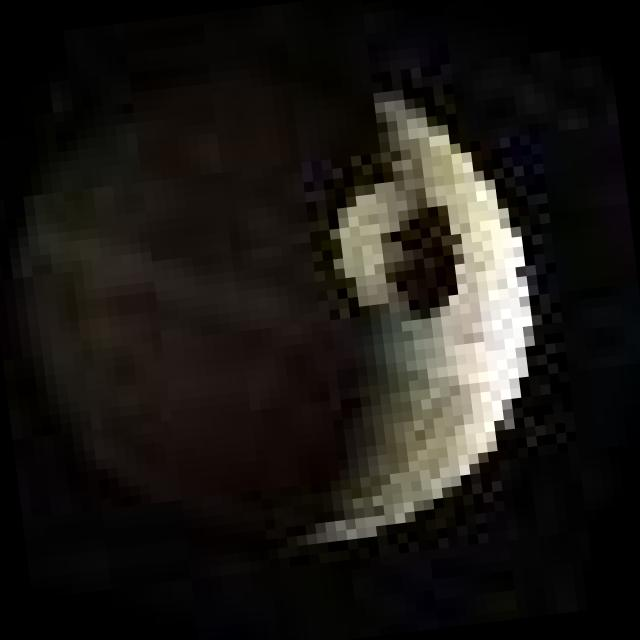Death Star: (7, 21, 563, 572)
